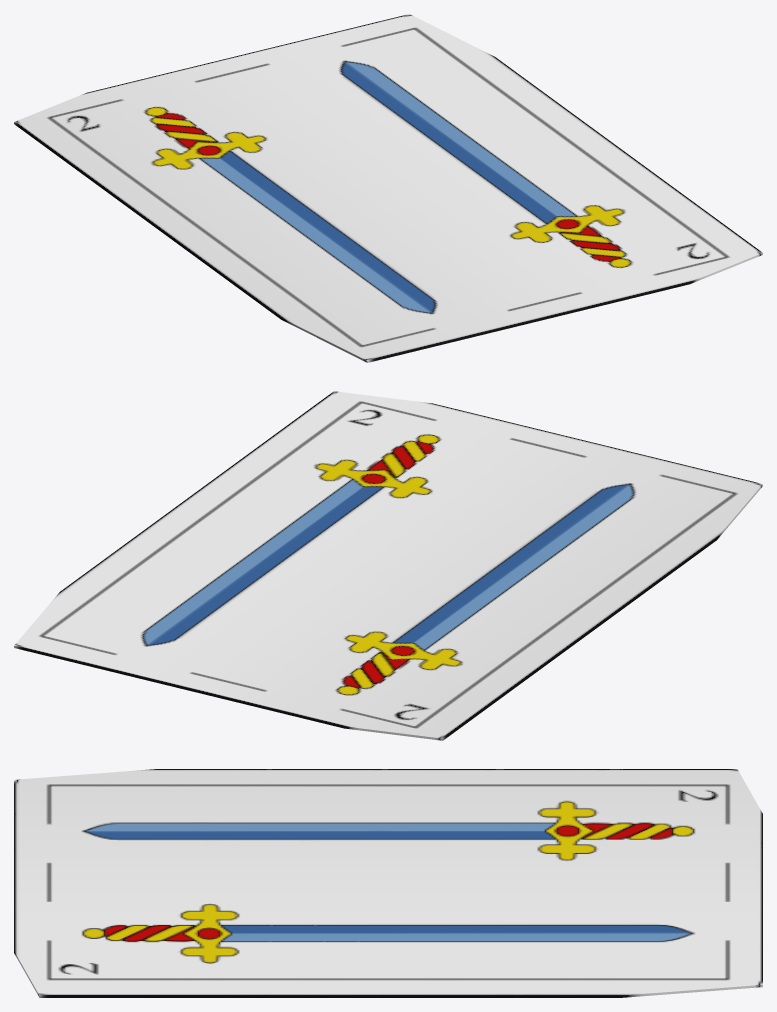
File: Carta_Espanola_2_Espadas.glb
3 renders of one model, top to bottom at view 1: azimuth 30°, elevation 25°; view 2: azimuth 150°, elevation 25°; view 3: azimuth 270°, elevation 25°, orthographic. The views are drawn at different scales.
Visible parts, largest first — view 1: Carta_Espanola_2_Espadas; view 2: Carta_Espanola_2_Espadas; view 3: Carta_Espanola_2_Espadas.
Part boxes in pixels (x1=…): Carta_Espanola_2_Espadas: x1=14, y1=14, x2=762, y2=362; Carta_Espanola_2_Espadas: x1=14, y1=391, x2=762, y2=740; Carta_Espanola_2_Espadas: x1=14, y1=769, x2=762, y2=997.
Bounding box in the file's own units: 0.063 × 0.0003 × 0.088.
Materials: 1 (1 with a texture image).
